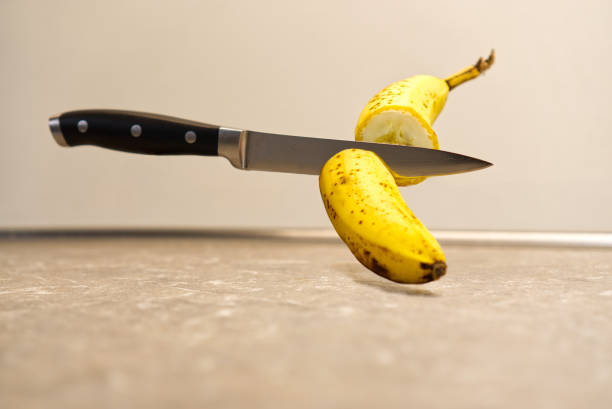knife: (46, 107, 495, 181)
